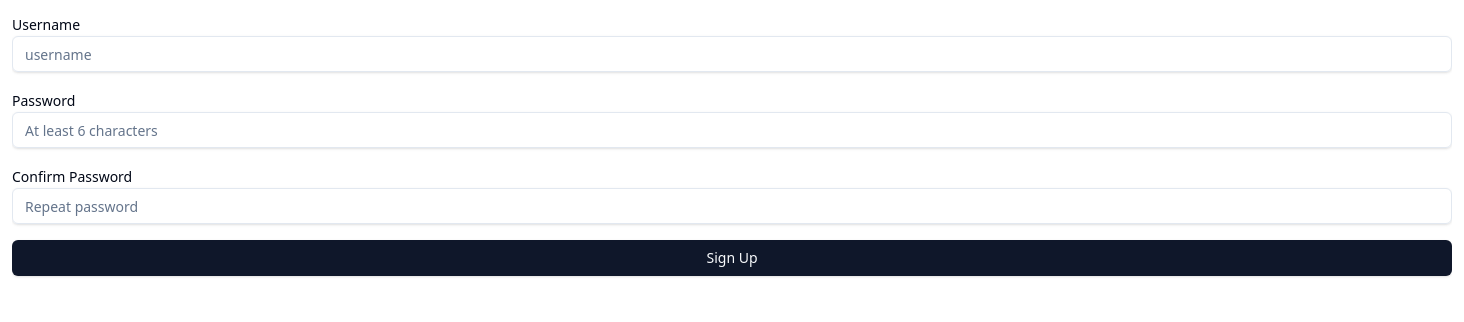
Scenario: RegisterForm › validates short password
Step 1. Type "newuser" into the field labelled "Username" → (732, 54), box x1=12 y1=36 x2=1452 y2=72
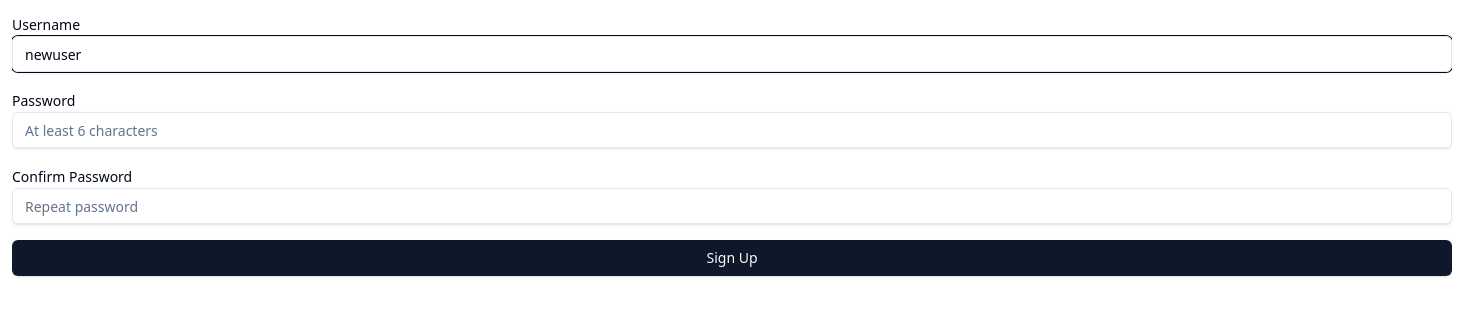
Step 2. Type "12345" into the password field labelled "Password" → (732, 130), box x1=12 y1=112 x2=1452 y2=148
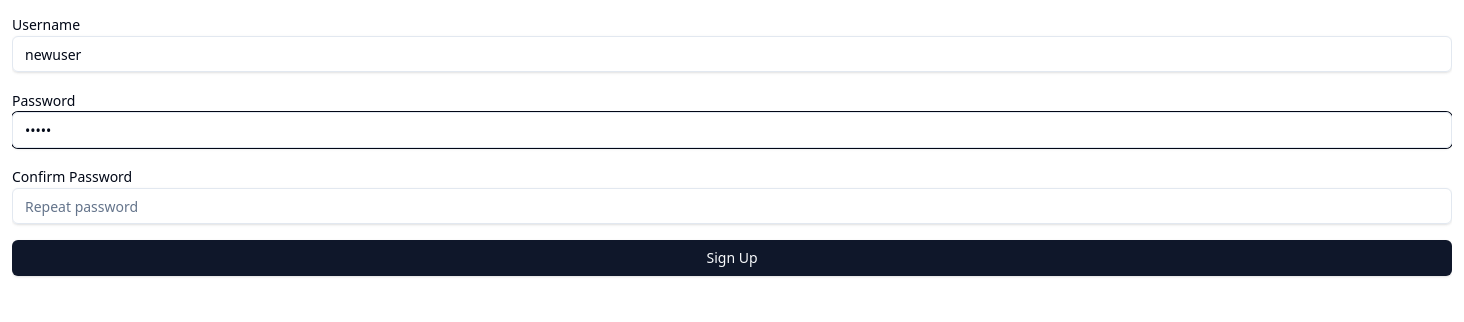
Step 3. Type "12345" into the password field labelled "Confirm Password" → (732, 206), box x1=12 y1=188 x2=1452 y2=224
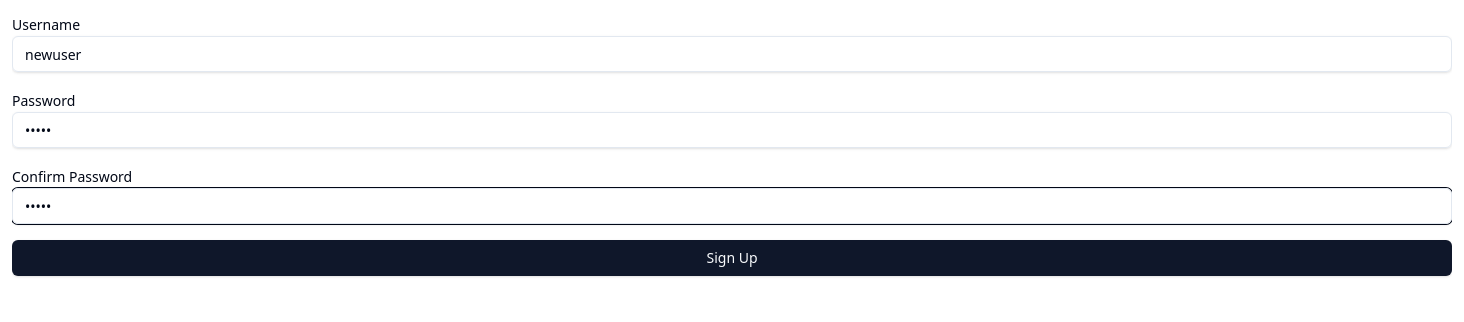
Step 4. Click the button "Sign Up" → (732, 258), box x1=12 y1=240 x2=1452 y2=276
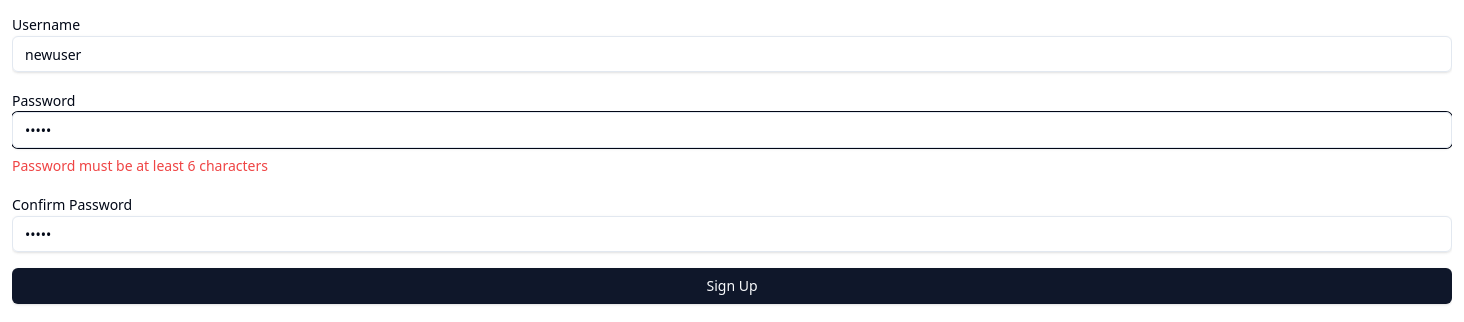
Now the text "Password must be at least 6 characters" is shown, box x1=12 y1=156 x2=268 y2=175
